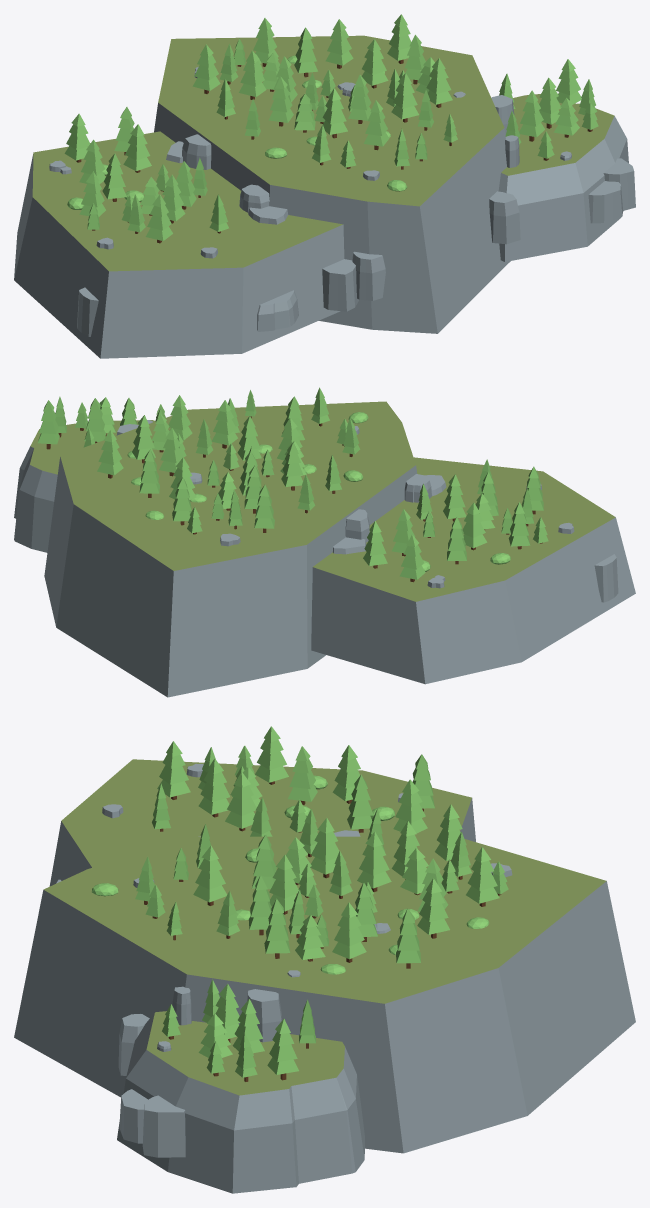
Rendered from Mountain2.fbx.
The picture shows the model from 3 angles, top to bottom: view 1: azimuth 30°, elevation 25°; view 2: azimuth 150°, elevation 25°; view 3: azimuth 270°, elevation 25°; orthographic projection. The views are drawn at different scales.
Parts seen in each view (by area): view 1: Cube.881; view 2: Cube.881; view 3: Cube.881.
Part boxes in pixels (left/top/right/bottom): Cube.881: left=14, top=14, right=635, bottom=358; Cube.881: left=14, top=387, right=635, bottom=697; Cube.881: left=14, top=726, right=635, bottom=1193.
Size of the model in its own units: 6933 by 1938 by 5363.
